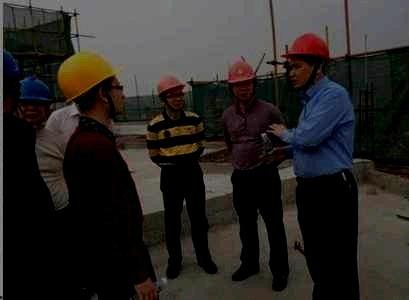helmet: (57, 50, 125, 115), (280, 31, 331, 88), (19, 75, 53, 123), (227, 60, 257, 101), (156, 73, 186, 110), (3, 49, 20, 113)
